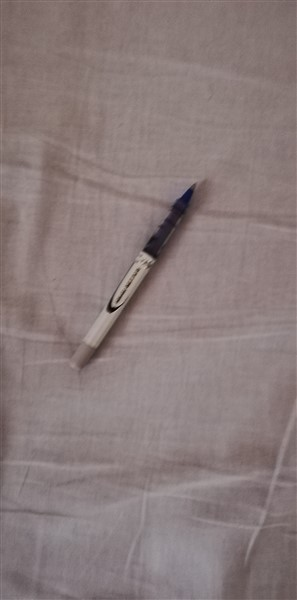pilot kalem: (65, 176, 201, 375)
